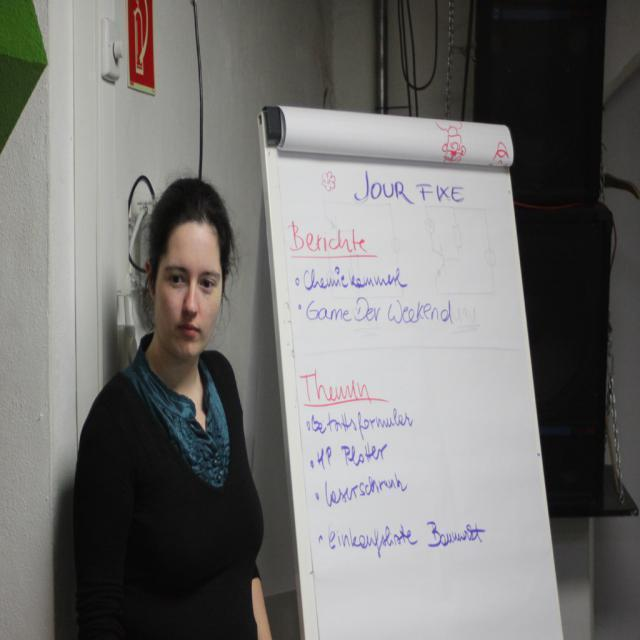closed-mouth: (178, 322, 200, 337)
